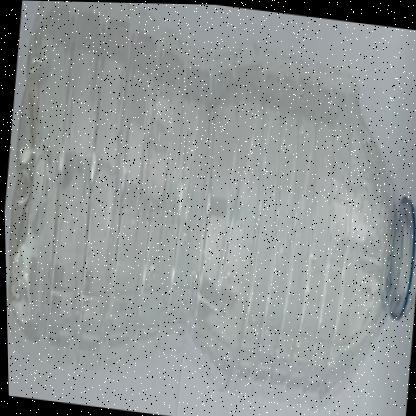open bottle: (298, 18, 416, 416)
